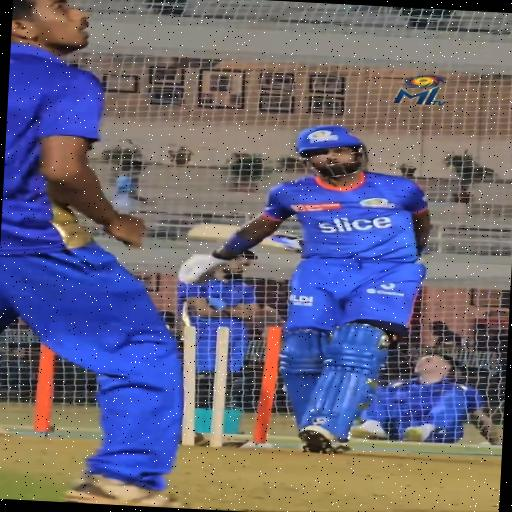Cricket bat: (186, 223, 238, 243), (260, 231, 300, 252)
